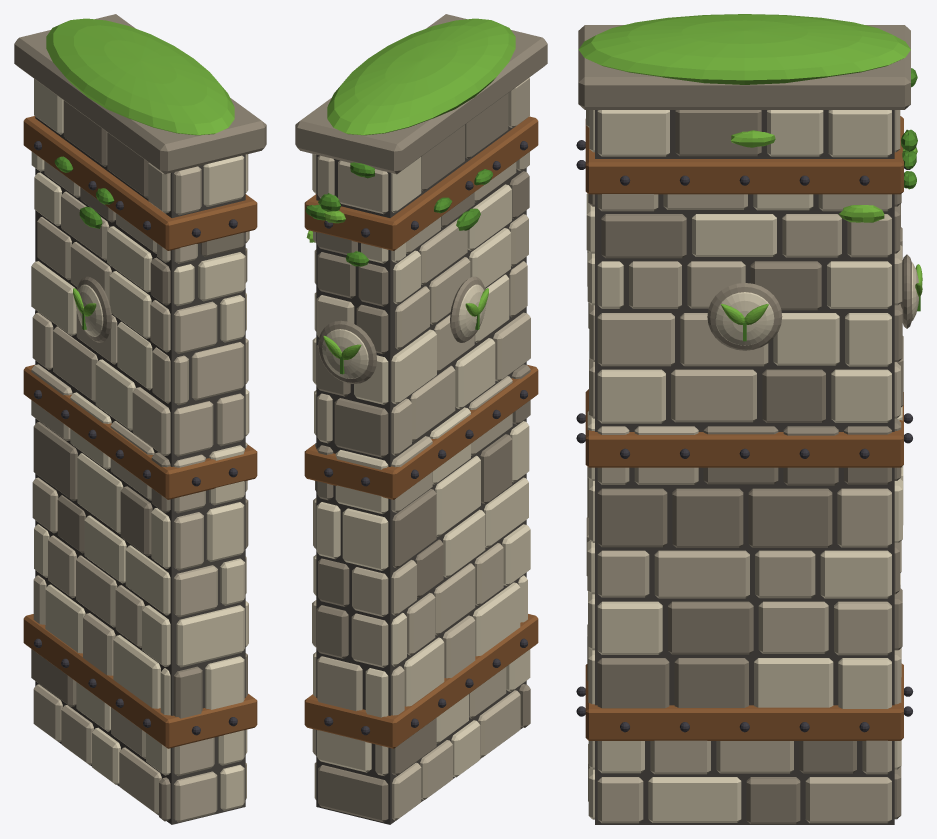
The model's file is BossGate_GreenMeadow.fbx.
The picture shows the model from 3 angles, left to right: view 1: azimuth 30°, elevation 25°; view 2: azimuth 150°, elevation 25°; view 3: azimuth 270°, elevation 25°; orthographic projection. The views are drawn at different scales.
Parts seen in each view (by area): view 1: BossGate_GreenMeadow; view 2: BossGate_GreenMeadow; view 3: BossGate_GreenMeadow.
Boxes of the visible parts, left/top/right/bottom form: BossGate_GreenMeadow: left=14, top=14, right=266, bottom=824; BossGate_GreenMeadow: left=295, top=14, right=547, bottom=824; BossGate_GreenMeadow: left=576, top=14, right=922, bottom=824.
Size of the model in its own units: 144 by 822 by 333.
